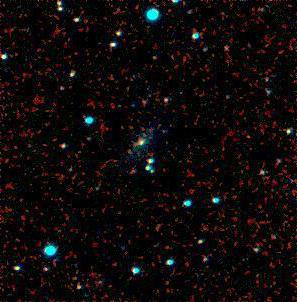star: (113, 130, 143, 160)
